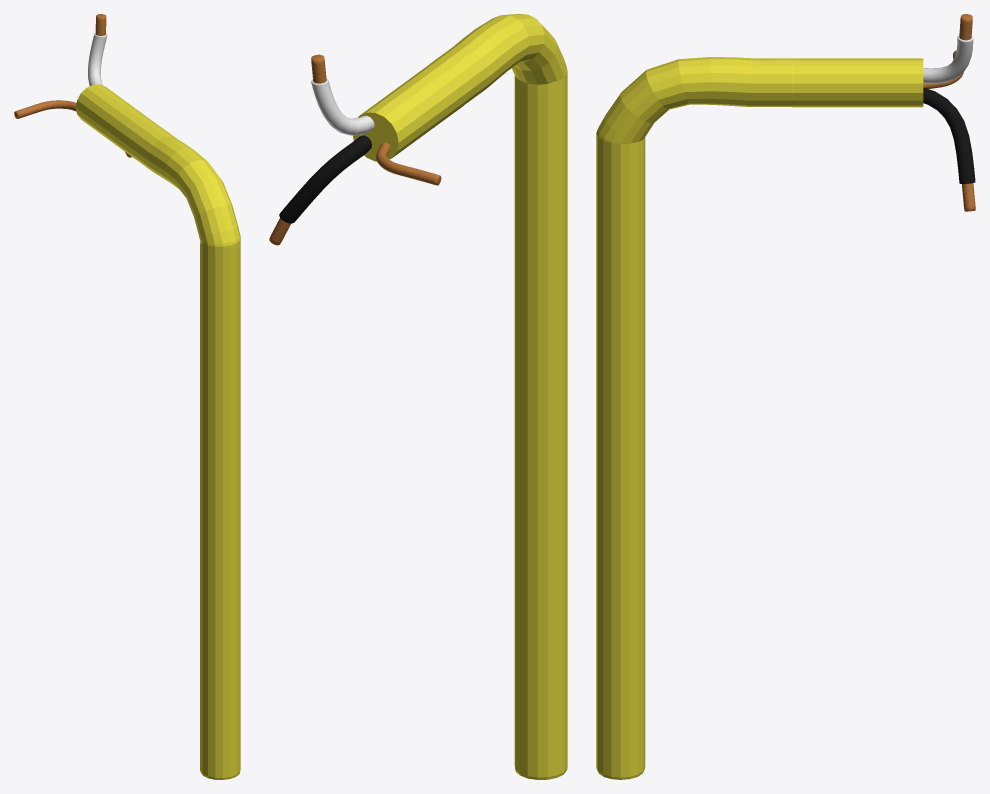
The model's file is WireExp.fbx.
3 renders of one model, left to right at view 1: azimuth 30°, elevation 25°; view 2: azimuth 150°, elevation 25°; view 3: azimuth 270°, elevation 25°, orthographic. The views are drawn at different scales.
Visible parts, largest first — view 1: WireExp; view 2: WireExp; view 3: WireExp.
Part boxes in pixels (left/top/right/bottom): WireExp: left=14, top=14, right=240, bottom=779; WireExp: left=269, top=14, right=567, bottom=779; WireExp: left=596, top=14, right=975, bottom=779.
Size of the model in its own units: 2.02 by 10 by 4.47.
